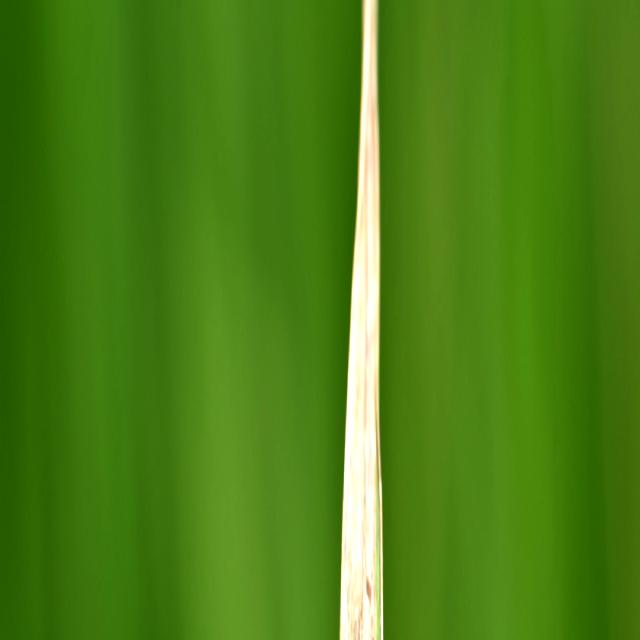BLB: (341, 4, 379, 640)
